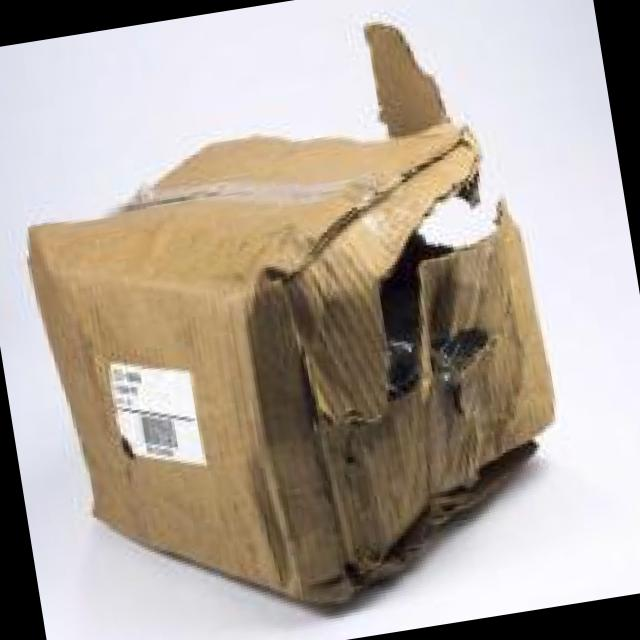tear: (376, 110, 510, 411)
